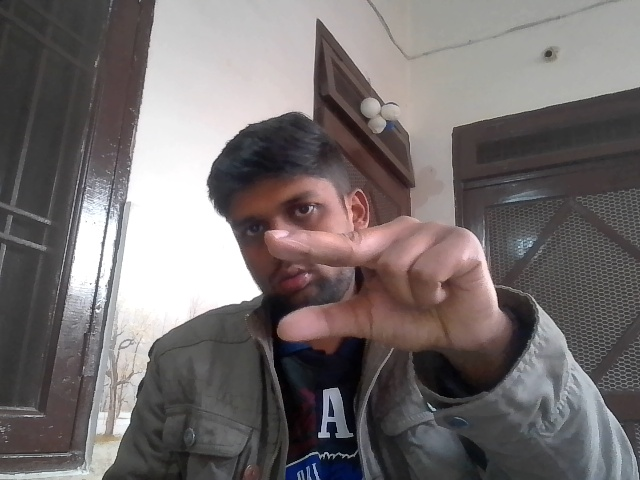No: (264, 210, 492, 364)
